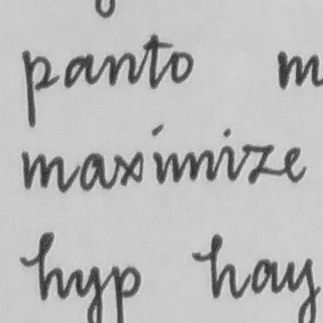a: (77, 150, 109, 194)
e: (281, 144, 309, 185)
i: (148, 122, 168, 187), (218, 126, 238, 184)
m: (19, 148, 68, 195), (170, 147, 216, 186)
x: (111, 149, 146, 187)
z: (240, 141, 277, 186)
